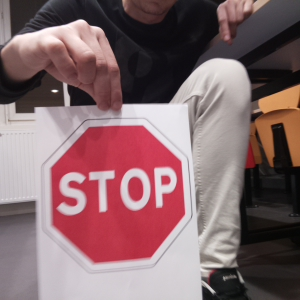stop: (43, 118, 193, 270)
